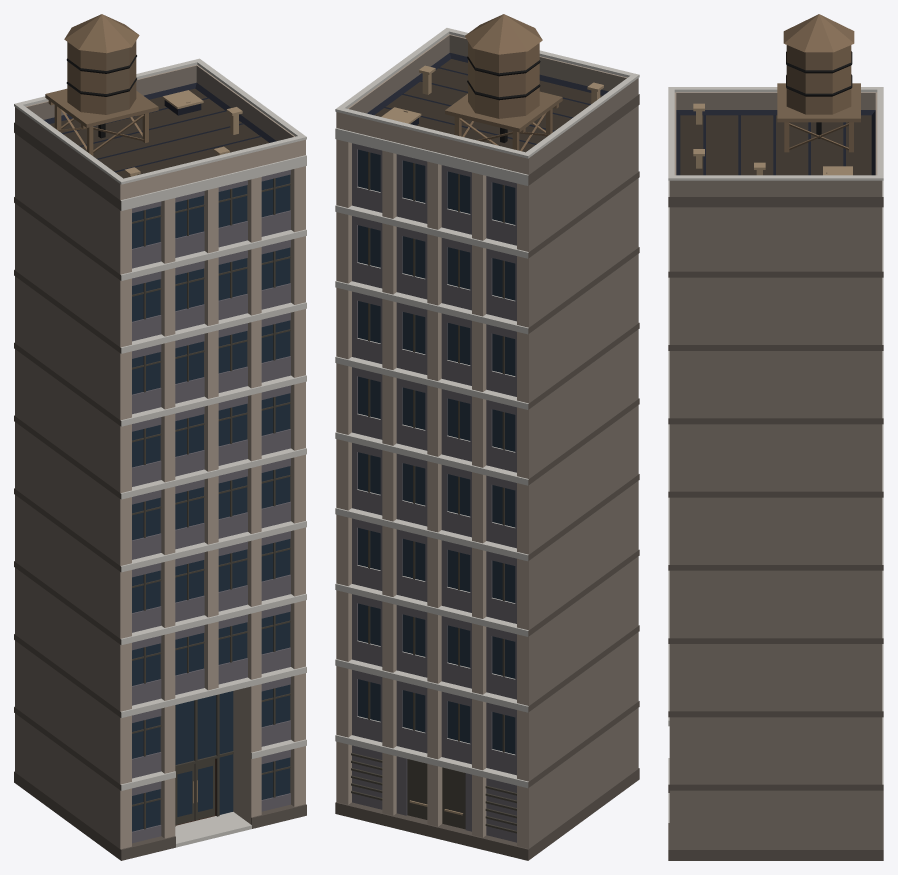
File: building_tower.glb
The picture shows the model from 3 angles, left to right: view 1: azimuth 30°, elevation 25°; view 2: azimuth 150°, elevation 25°; view 3: azimuth 270°, elevation 25°; orthographic projection. The views are drawn at different scales.
Visible parts, largest first — view 1: tower-body, water-tank-timber, door-r-leaf, door-l-leaf; view 2: tower-body, water-tank-timber; view 3: tower-body, water-tank-timber.
Part boxes in pixels (<box>): tower-body: <box>14,58,306,860</box>; water-tank-timber: <box>45,14,158,155</box>; door-r-leaf: <box>194,759,215,820</box>; door-l-leaf: <box>175,764,194,824</box>; tower-body: <box>335,28,639,860</box>; water-tank-timber: <box>445,14,562,151</box>; tower-body: <box>668,87,883,860</box>; water-tank-timber: <box>777,14,860,152</box>.
Bounding box in the file's own units: 8 × 32.06 × 8.
